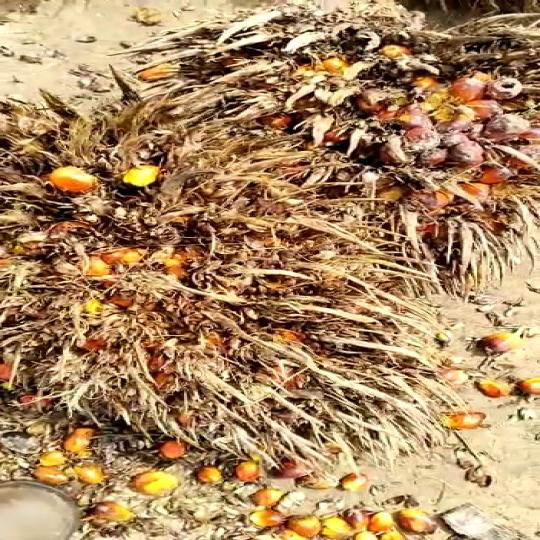terlalu masak: (0, 99, 460, 466)
